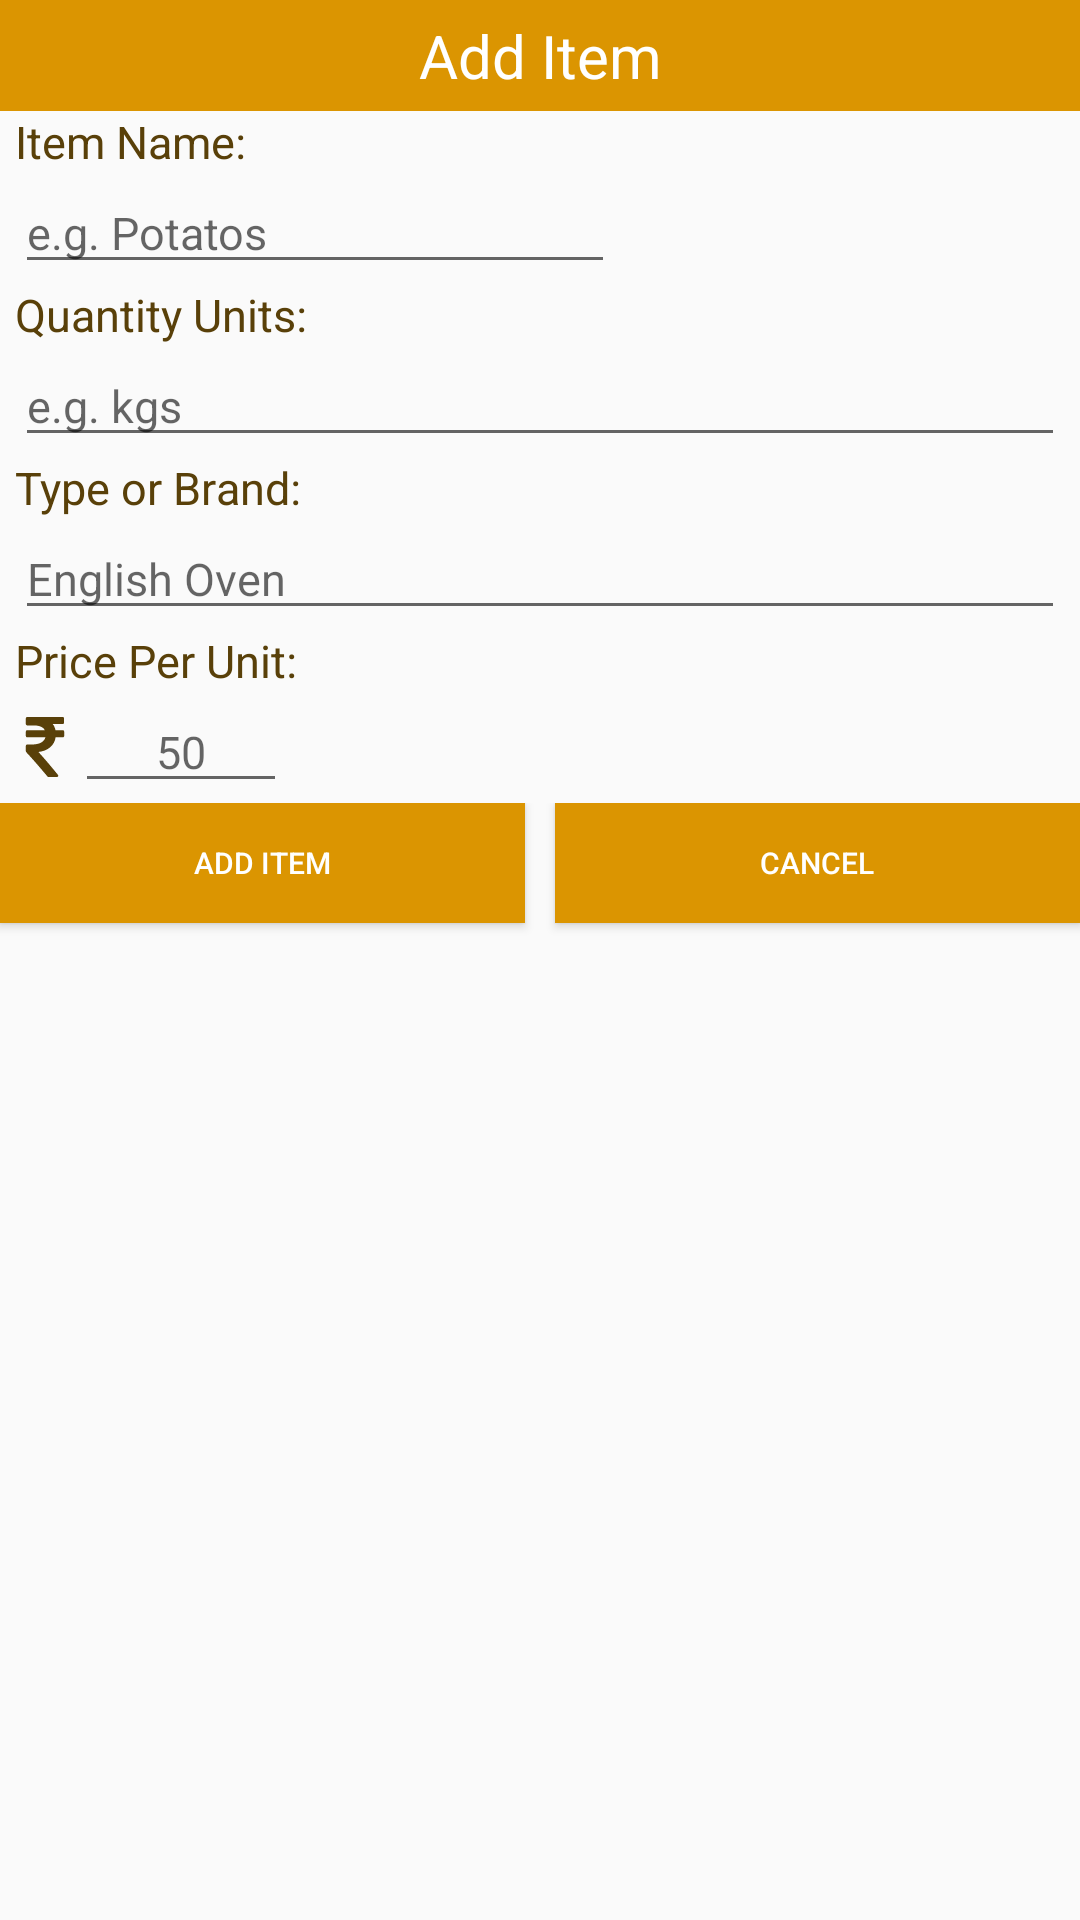

Icon bounding boxes for this 1080*1920 phone screenshot, format (x1, y1, x2, y2):
rupee: (25, 717, 65, 777)
